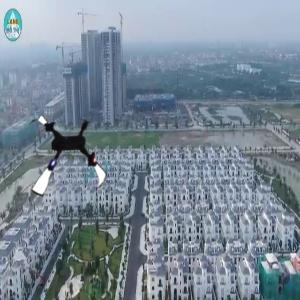drone: (16, 109, 115, 208)
